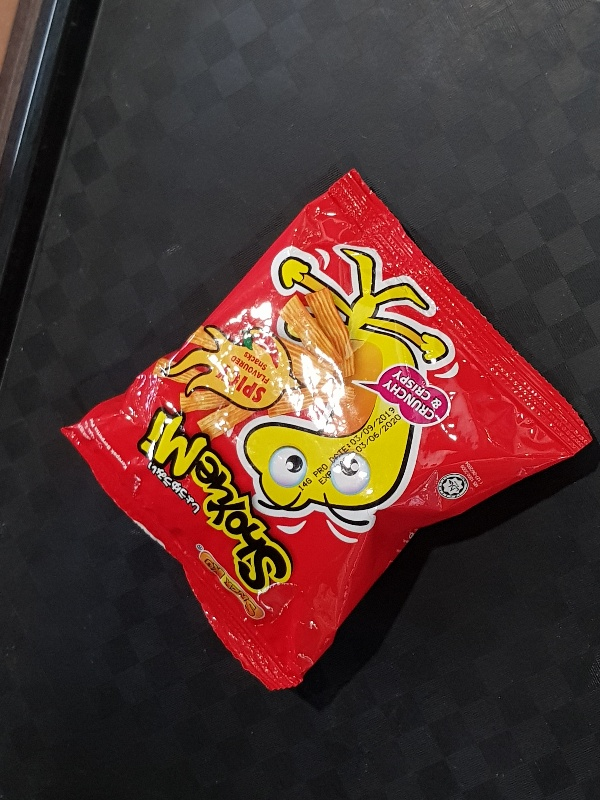ShoyueMi Spicy Flavoured Snacks: (58, 168, 591, 693)
